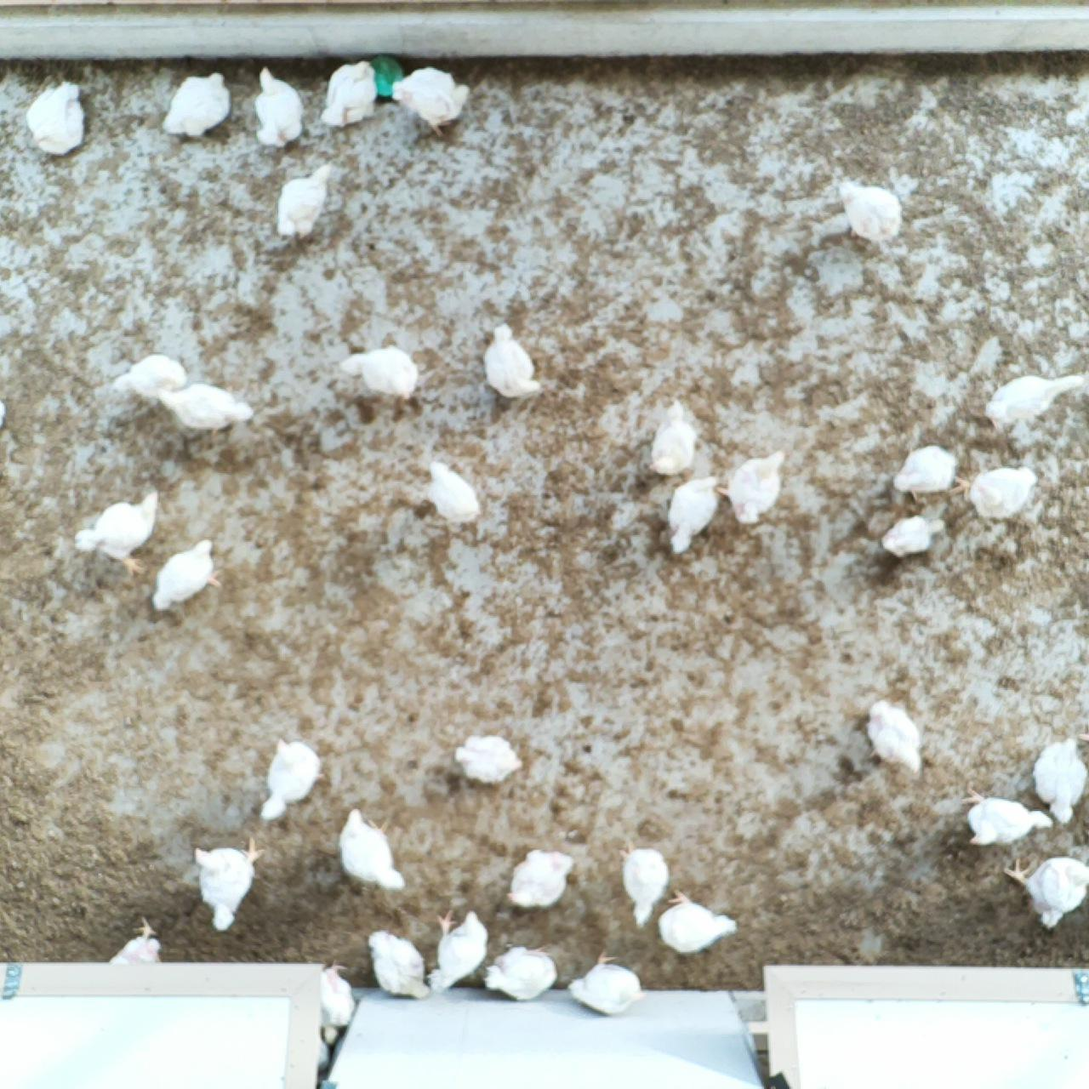chicken: (73, 484, 161, 581), (191, 834, 270, 933), (149, 379, 255, 446), (1000, 854, 1089, 929), (981, 370, 1088, 432), (335, 805, 409, 894), (257, 732, 327, 823), (958, 784, 1056, 849), (391, 61, 472, 139), (150, 535, 229, 614), (656, 885, 742, 957), (714, 446, 791, 525), (564, 946, 646, 1019), (274, 160, 341, 247), (426, 906, 492, 993), (162, 69, 237, 144), (107, 348, 188, 416), (24, 76, 91, 158), (614, 839, 671, 932), (482, 319, 545, 403), (419, 450, 485, 530), (365, 924, 430, 1004), (666, 472, 725, 559), (1033, 735, 1089, 826), (835, 177, 906, 248), (504, 843, 576, 913), (861, 696, 924, 775), (252, 64, 309, 151), (952, 465, 1041, 520), (482, 942, 561, 1003), (339, 344, 420, 403), (890, 442, 967, 503), (319, 58, 381, 131), (647, 398, 702, 478), (452, 729, 525, 787), (877, 509, 950, 562), (102, 912, 169, 965), (317, 959, 359, 1026)
